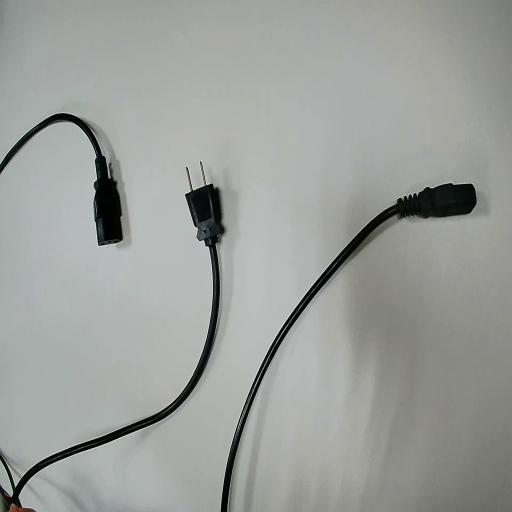wire: (221, 184, 475, 511), (0, 185, 223, 511), (0, 114, 121, 243)
